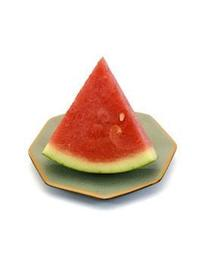watermelon: (44, 54, 158, 175)
